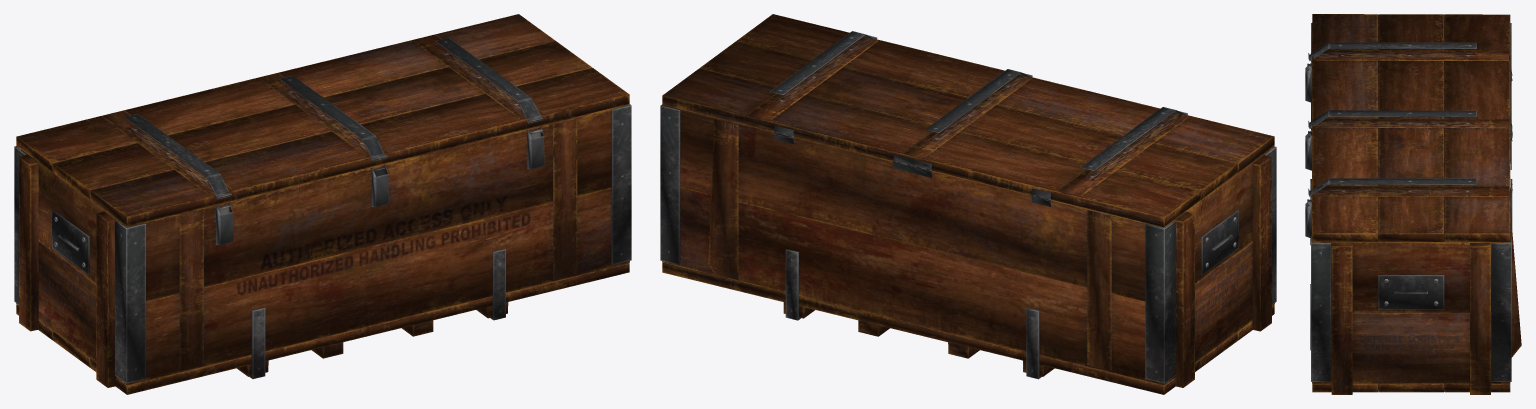
Rendered from wooden_military_crate.glb.
The picture shows the model from 3 angles, left to right: view 1: azimuth 30°, elevation 25°; view 2: azimuth 150°, elevation 25°; view 3: azimuth 270°, elevation 25°; orthographic projection. The views are drawn at different scales.
Parts seen in each view (by area): view 1: wooden_military_crate, wooden_military_crate_lid; view 2: wooden_military_crate, wooden_military_crate_lid; view 3: wooden_military_crate_lid, wooden_military_crate.
Boxes of the visible parts, left/top/right/bottom form: wooden_military_crate: left=14, top=104, right=631, bottom=394; wooden_military_crate_lid: left=16, top=14, right=629, bottom=226; wooden_military_crate: left=660, top=104, right=1276, bottom=394; wooden_military_crate_lid: left=662, top=14, right=1274, bottom=227; wooden_military_crate_lid: left=1308, top=14, right=1512, bottom=241; wooden_military_crate: left=1305, top=23, right=1521, bottom=394.
Size of what is drawn, in the model's own units: 1.24 by 0.4639 by 0.5008.
Materials: 1 (1 with a texture image).
